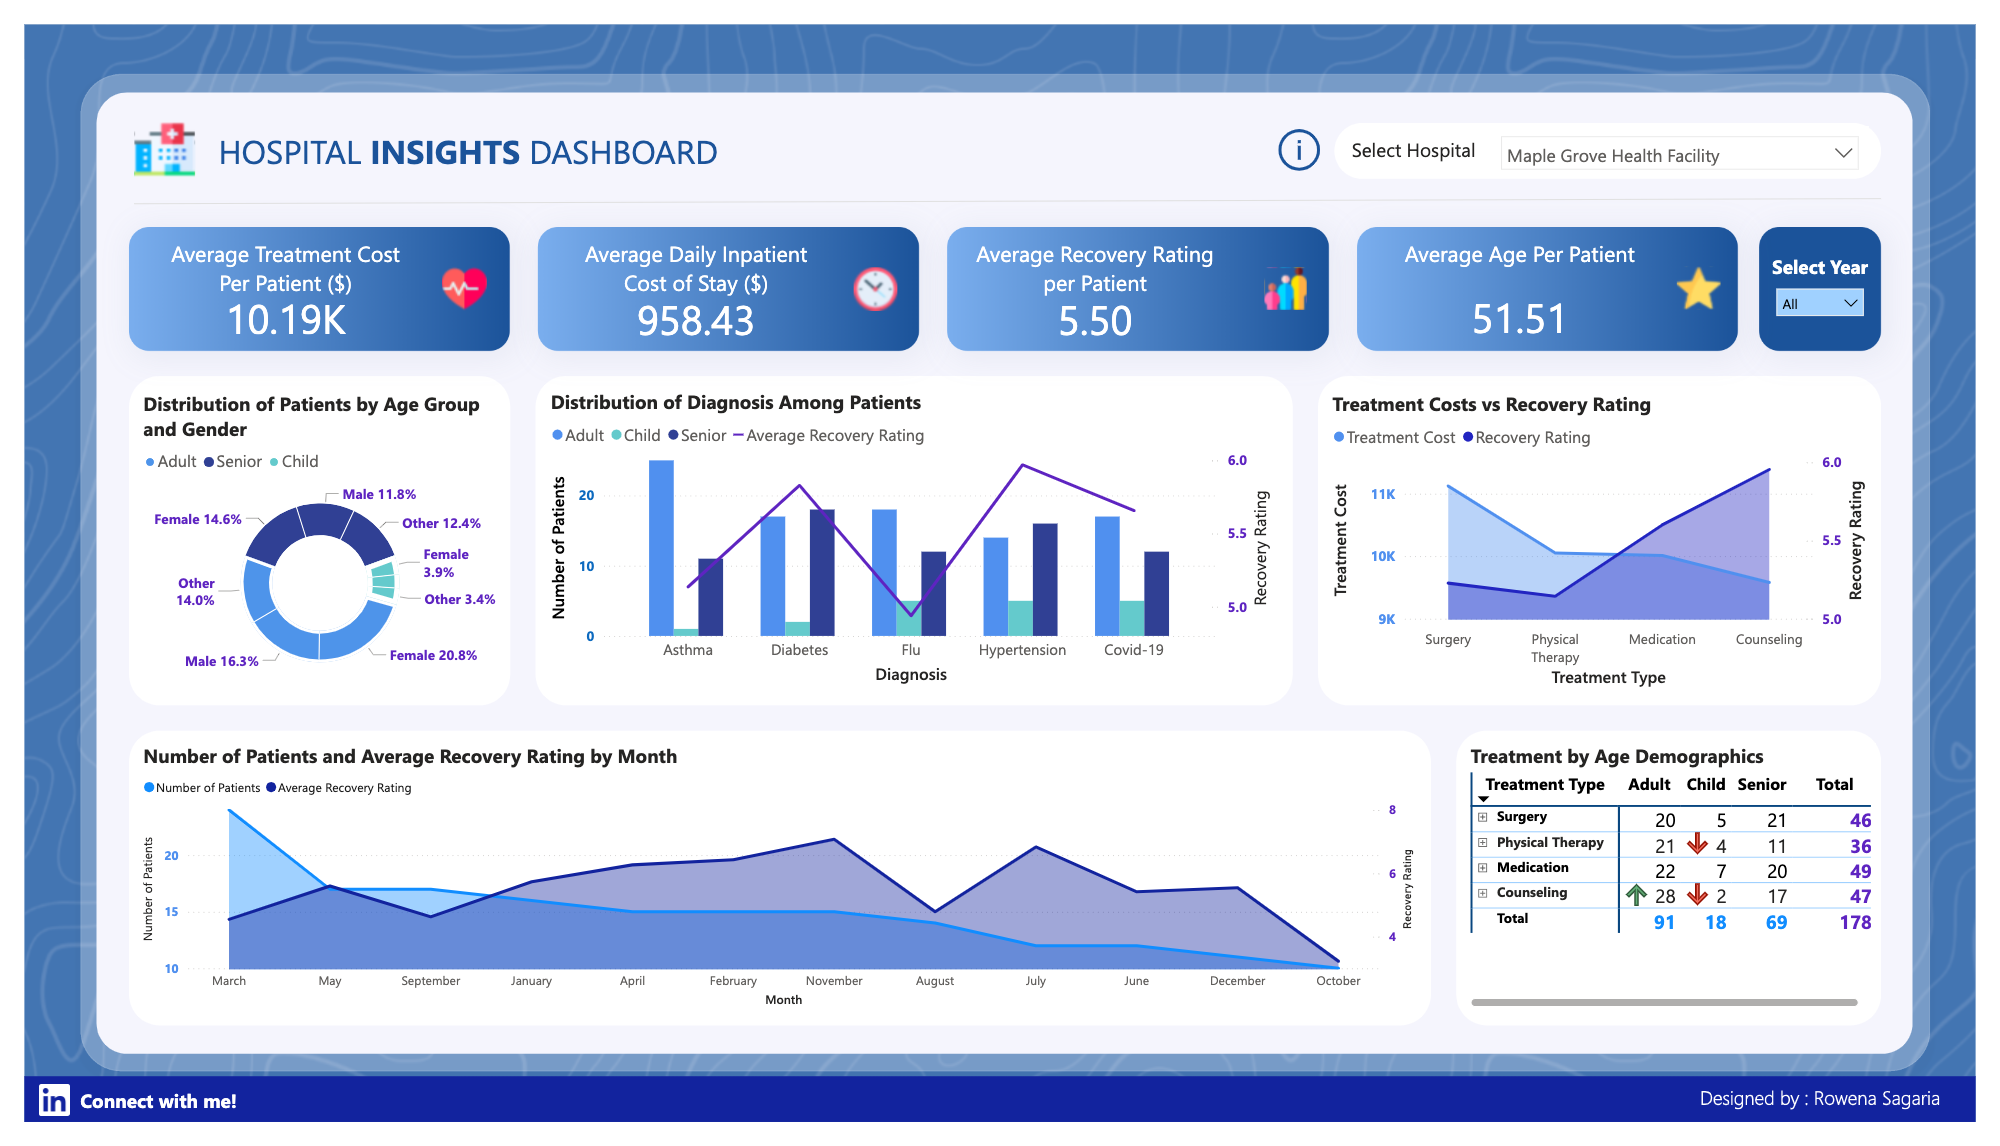

Layout of this report page (visuals, bound fields, positions):
{"tool":"powerbi","page":{"name":"Hospital Insights Dashboard","canvas":[1920,1080],"ordinal":0},"visuals":[{"type":"textbox","box":[185.9,97.4,670,71.9],"z":0},{"type":"donutChart","title":"Distribution of Patients by Age Group and Gender","fields":{"Category":["Sheet1.AgeGroup"],"Y":["CountNonNull(Sheet1.Age)"],"Series":["Sheet1.Gender"]},"box":[111.7,360,357.9,298.3],"z":2000},{"type":"lineClusteredColumnComboChart","title":"Distribution of Diagnosis Among Patients","fields":{"Category":["Sheet1.Diagnosis"],"Y":["CountNonNull(Sheet1.PatientID)"],"Y2":["Avg(Sheet1 (2).RecoveryRating)"],"Series":["Sheet1.AgeGroup"]},"box":[513.3,358.3,721.7,297],"z":3000},{"type":"areaChart","title":"Treatment Costs vs Recovery Rating","fields":{"Category":["Sheet1 (2).TreatmentType"],"Y":["Avg(Sheet1.TotalBill)"],"Y2":["Avg(Sheet1 (2).RecoveryRating)"]},"box":[1281.7,360,538.3,298.3],"z":4000},{"type":"pivotTable","title":"Treatment by Age Demographics","fields":{"Rows":["Sheet1 (2).TreatmentType","Sheet1.Diagnosis"],"Columns":["Sheet1.AgeGroup"],"Values":["CountNonNull(Sheet1.PatientID)"]},"box":[1418.3,706.7,403.3,265],"z":5000},{"type":"lineChart","fields":{"Y":["CountNonNull(Sheet1.PatientID)"],"Category":["Sheet1.Month"],"Y2":["Avg(Sheet1 (2).RecoveryRating)"]},"box":[111.7,706.7,1260,265],"z":6000},{"type":"card","title":"Average Treatment Cost Per Patient ($)","fields":{"Values":["Avg(Sheet1.TotalBill)"]},"box":[139.4,211.3,235.3,101.9],"z":7000},{"type":"card","title":"Average Daily Inpatient Cost of Stay ($)","fields":{"Values":["Avg(Sheet1 (2).DailyCost)"]},"box":[545.6,211.3,230.8,101.9],"z":8000},{"type":"card","title":"Average Recovery Rating per Patient","fields":{"Values":["Avg(Sheet1 (2).RecoveryRating)"]},"box":[923.3,211.3,260.8,101.9],"z":9000},{"type":"card","title":"Average Age Per Patient","fields":{"Values":["Avg(Sheet1.Age)"]},"box":[1353.4,211.3,236.8,125.9],"z":10000},{"type":"slicer","title":"Select Hospital","fields":{"Values":["Sheet1 (2).Hospital"]},"box":[1443.4,100.4,371.7,46.5],"z":11000},{"type":"slicer","title":"Select Year","fields":{"Values":["Sheet1.Year"]},"box":[1714.3,226,106,71.7],"z":12000},{"type":"textbox","box":[1301,104.9,142.4,39],"z":13000},{"type":"actionButton","box":[1227.8,97.4,54,53.1],"z":14000},{"type":"card","fields":{"Values":["Sum(Sheet1.Age)"]},"box":[1227.8,101.8,54,46],"z":15000},{"type":"shape","box":[0,1034.8,1920,45.2],"z":16000},{"type":"textbox","box":[1644.2,1037.9,257.1,40.5],"z":17000},{"type":"textbox","box":[49.9,1041,297.6,37.4],"z":18000},{"type":"image","box":[9.4,1036.4,40.5,43.6],"z":19000}]}

Visuals, with their boxes in screenshot pixels (x1, y1, x2, y2), scaled from the page's 1920x1080 canvas onto the 2000x1146 screenshot:
textbox: <box>194,103,892,180</box>
"Distribution of Patients by Age Group and Gender" donutChart: <box>116,382,489,699</box>
"Distribution of Diagnosis Among Patients" lineClusteredColumnComboChart: <box>535,380,1286,695</box>
"Treatment Costs vs Recovery Rating" areaChart: <box>1335,382,1896,699</box>
"Treatment by Age Demographics" pivotTable: <box>1477,750,1898,1031</box>
lineChart - CountNonNull(Sheet1.PatientID) x Sheet1.Month: <box>116,750,1429,1031</box>
"Average Treatment Cost Per Patient ($)" card: <box>145,224,390,332</box>
"Average Daily Inpatient Cost of Stay ($)" card: <box>568,224,809,332</box>
"Average Recovery Rating per Patient" card: <box>962,224,1233,332</box>
"Average Age Per Patient" card: <box>1410,224,1656,358</box>
"Select Hospital" slicer: <box>1504,107,1891,156</box>
"Select Year" slicer: <box>1786,240,1896,316</box>
textbox: <box>1355,111,1504,153</box>
actionButton: <box>1279,103,1335,160</box>
card - Sum(Sheet1.Age): <box>1279,108,1335,157</box>
shape: <box>0,1098,1999,1145</box>
textbox: <box>1713,1101,1981,1144</box>
textbox: <box>52,1105,362,1144</box>
image: <box>10,1100,52,1145</box>
